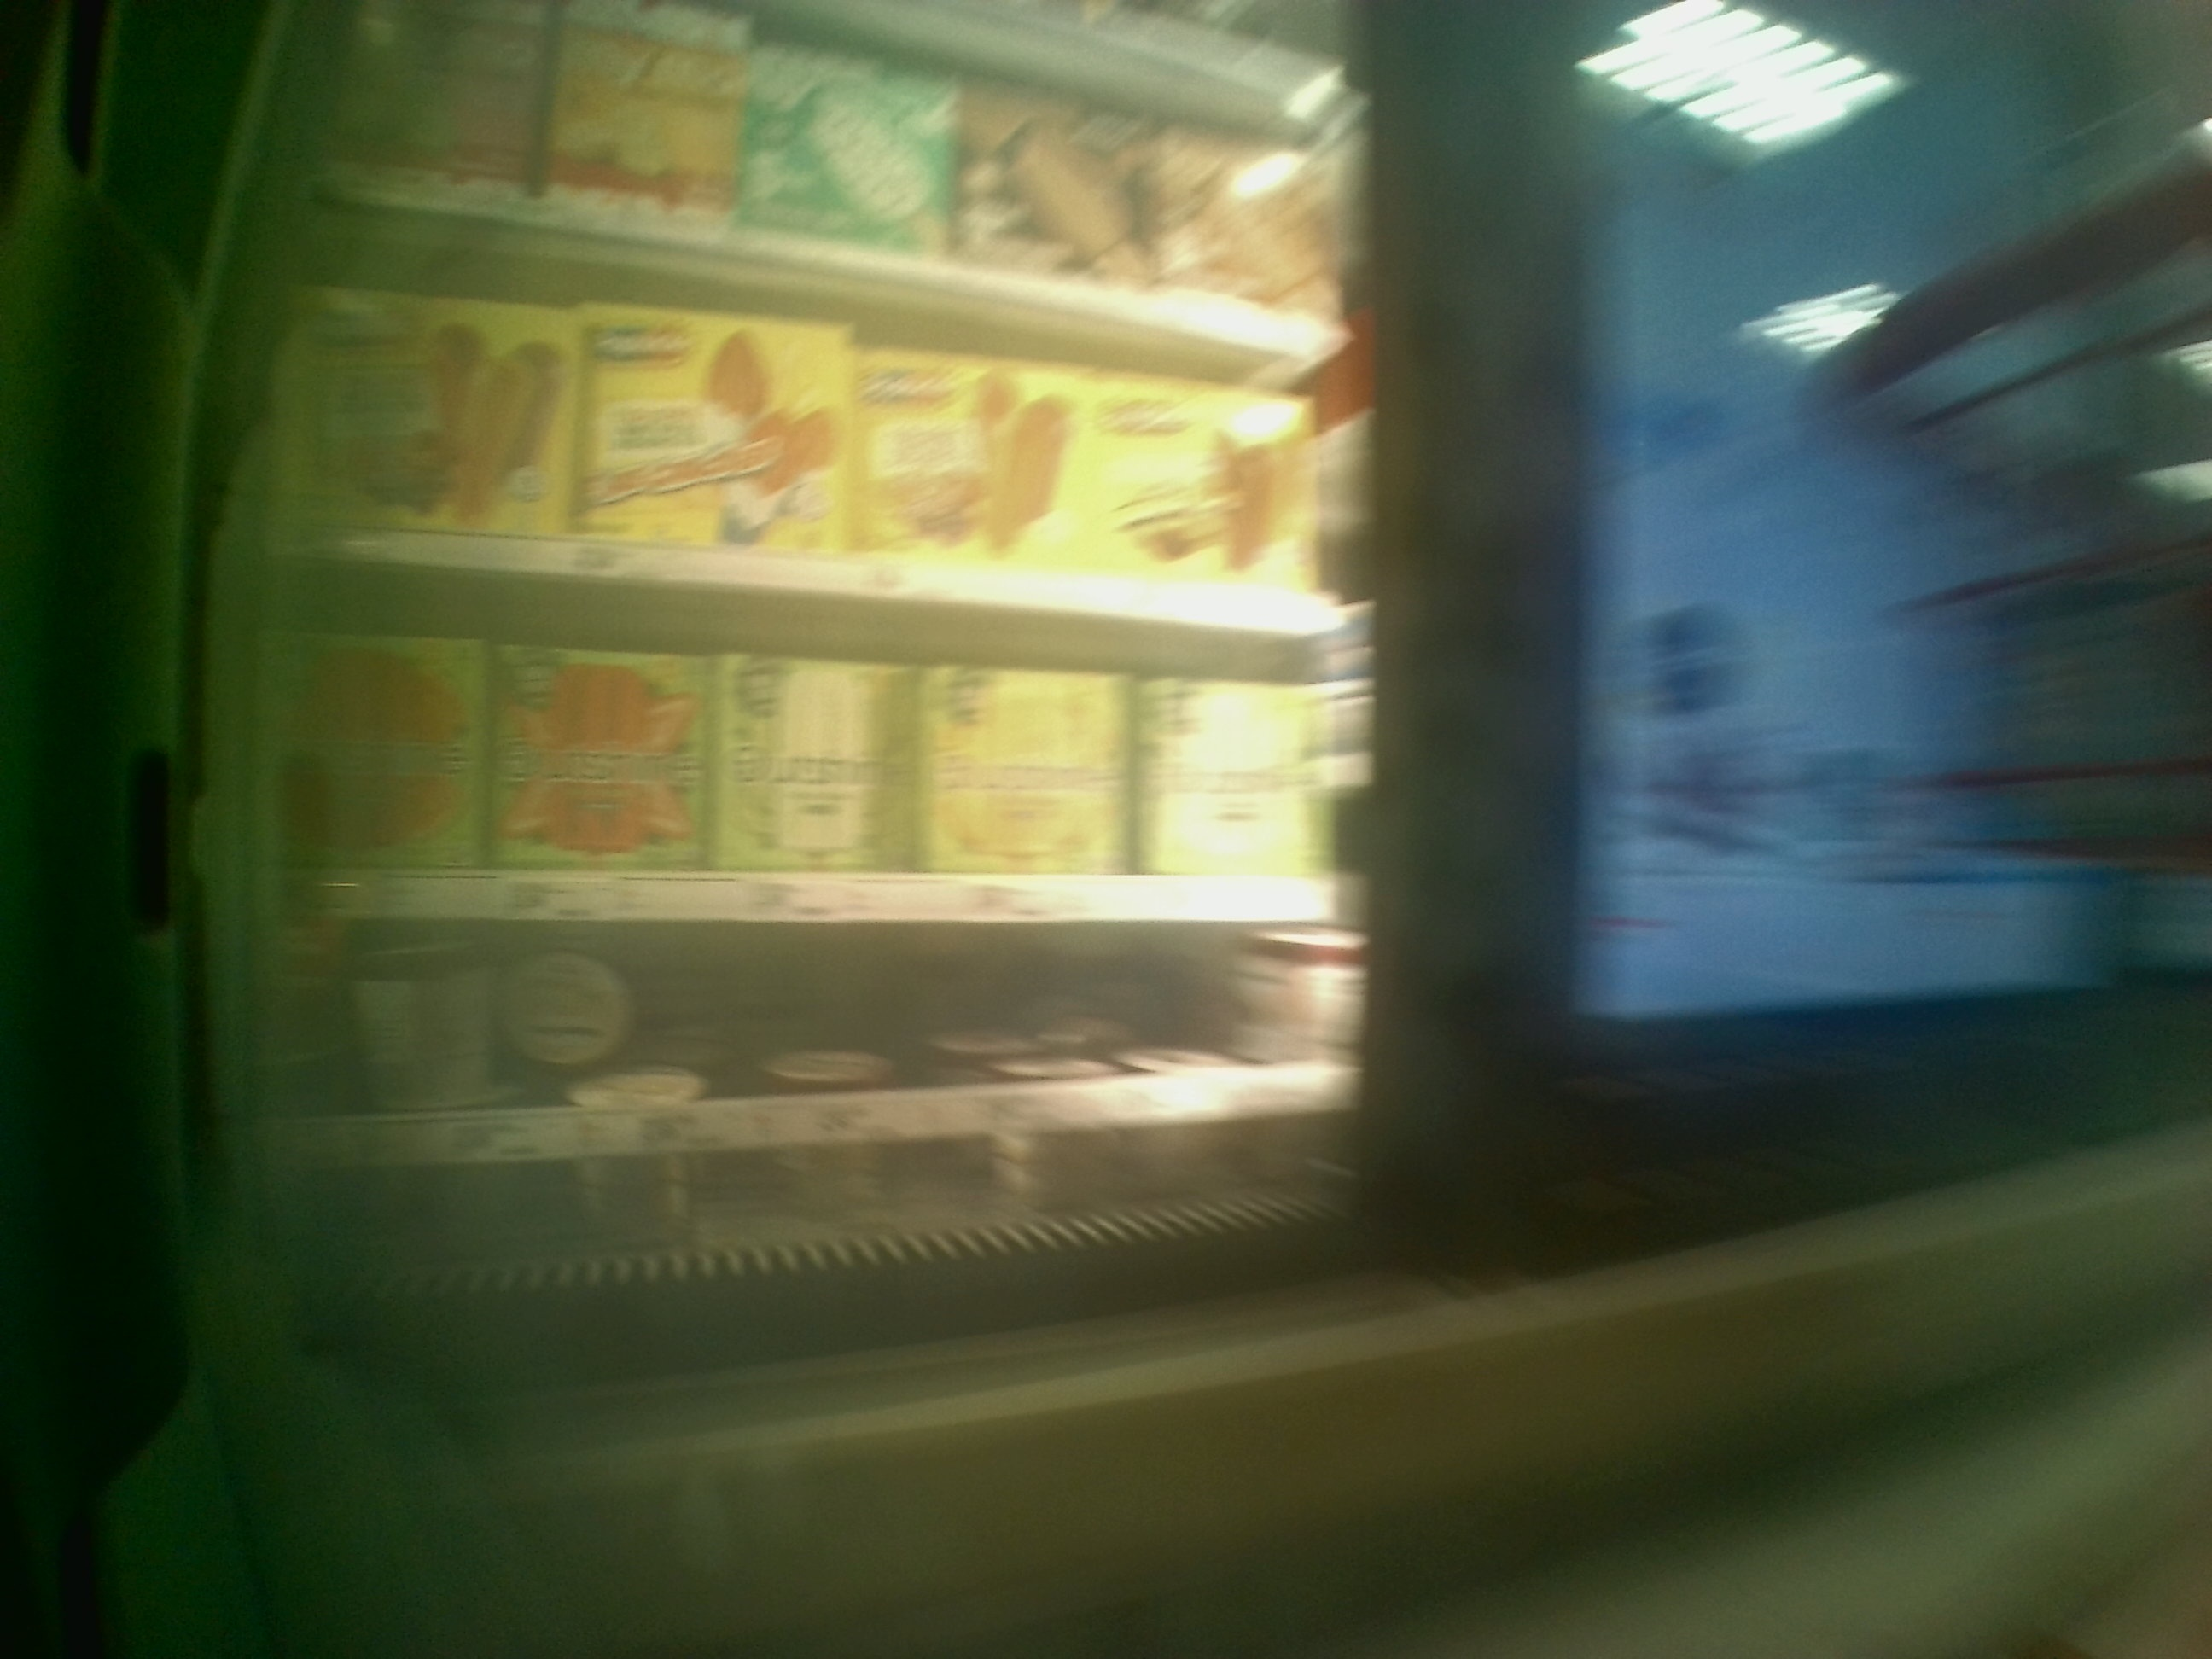shelf: (298, 190, 1367, 631), (261, 552, 1343, 924), (256, 918, 1379, 1225)
